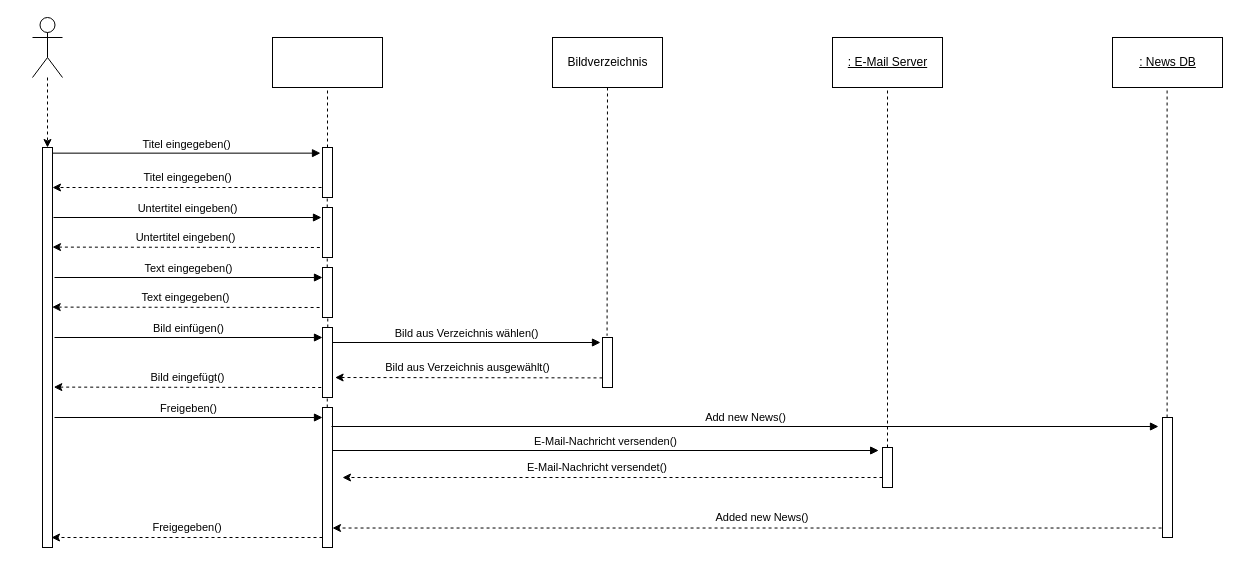
This 1240x565 diagram has some shape labels left out. Here are the shapes that lost their labels. From the top down, the centre of each, then its label:
pixel 47 47: :Mitarbeiter
pixel 327 62: : Newsletter
